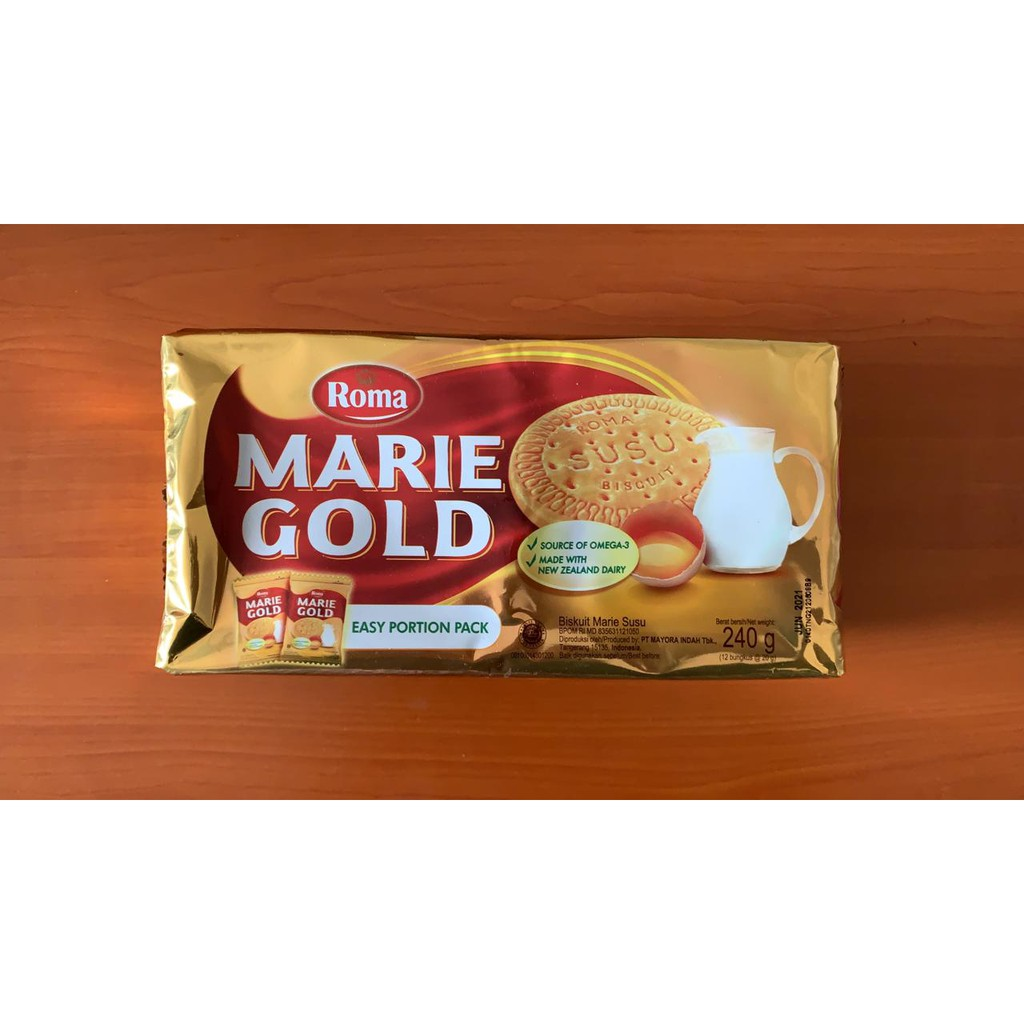Roma Marie Gold (240g): (136, 307, 874, 693)
